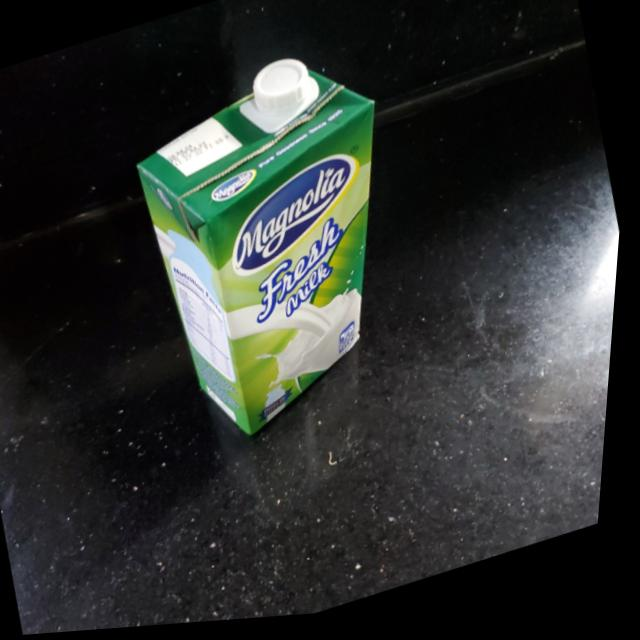milk: (107, 35, 450, 463)
